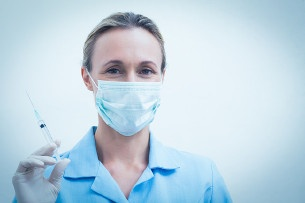Mask: (92, 56, 168, 133)
